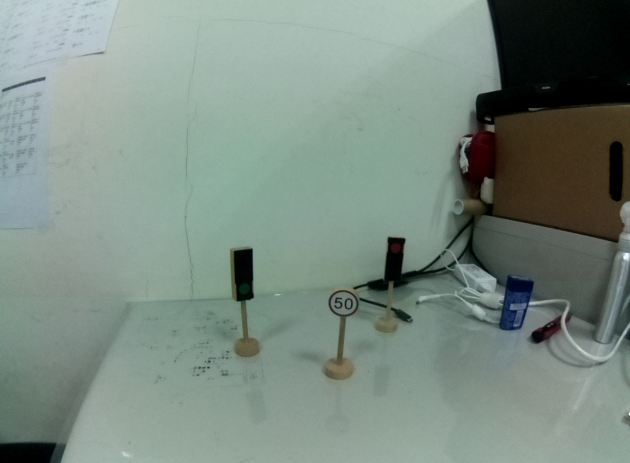Green: (226, 247, 256, 306)
Red: (385, 234, 406, 283)
Speed50: (326, 289, 362, 319)
